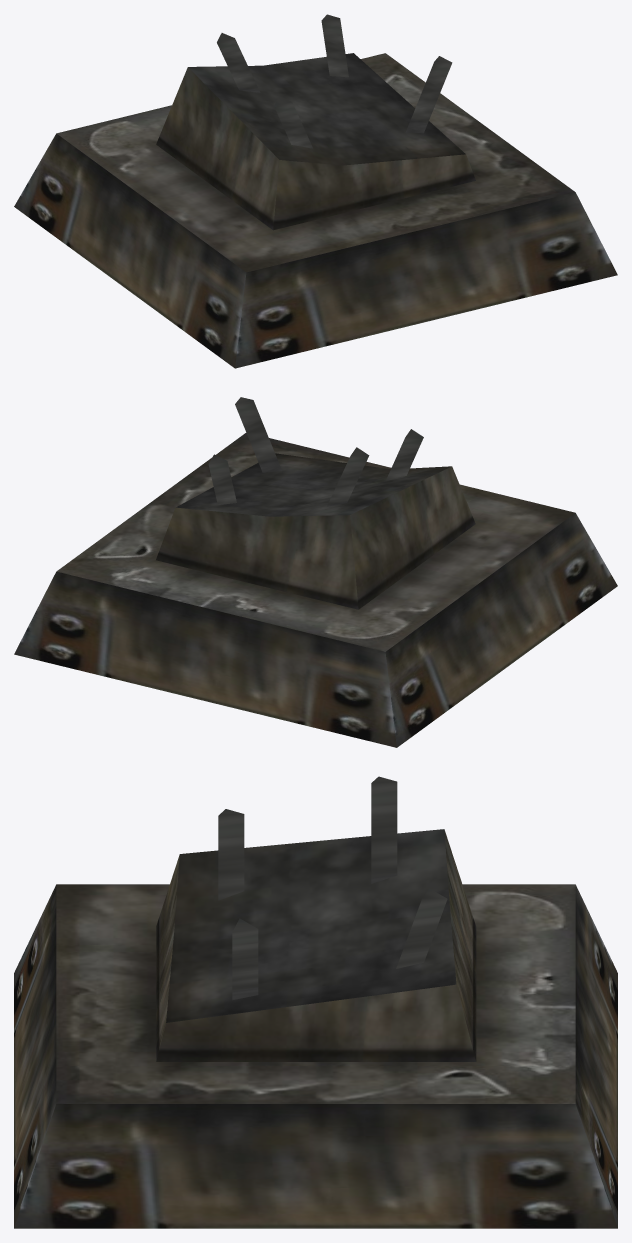
Rendered from orbitalturret_dam_hdtex.glb.
3 views of the same model, one above another, from view 1: azimuth 30°, elevation 25°; view 2: azimuth 150°, elevation 25°; view 3: azimuth 270°, elevation 25° (orthographic). The views are drawn at different scales.
Parts seen in each view (by area): view 1: Base; view 2: Base; view 3: Base.
Part boxes in pixels (x1,y1,x2,y2): Base: (14, 14, 617, 368); Base: (14, 397, 617, 747); Base: (14, 776, 617, 1228).
Bounding box in the file's own units: 15.87 × 8.04 × 15.87.
Materials: 1 (1 with a texture image).
